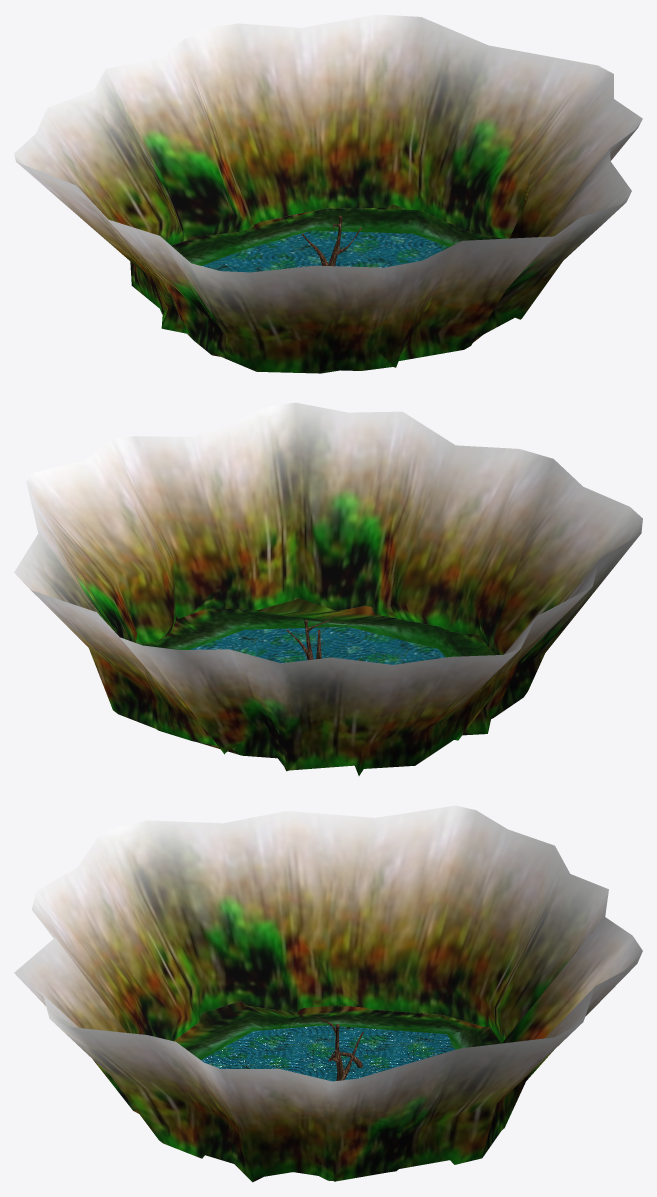
File: ENVO_Swamp.obj
3 views of the same model, one above another, from view 1: azimuth 30°, elevation 25°; view 2: azimuth 150°, elevation 25°; view 3: azimuth 270°, elevation 25° (orthographic). The views are drawn at different scales.
Visible parts, largest first — view 1: Swamp; view 2: Swamp; view 3: Swamp.
Part boxes in pixels (x1,y1,x2,y2): Swamp: (14, 14, 642, 373); Swamp: (14, 402, 642, 775); Swamp: (14, 805, 642, 1182).
Size of what is drawn, in the model's own units: 9269 by 2513 by 8946.
Materials: 4 (4 with a texture image).
